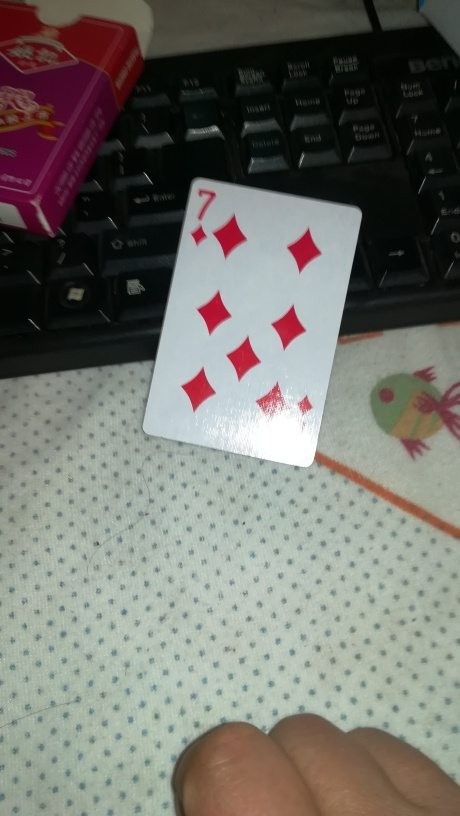fk 7: (140, 174, 366, 474)
